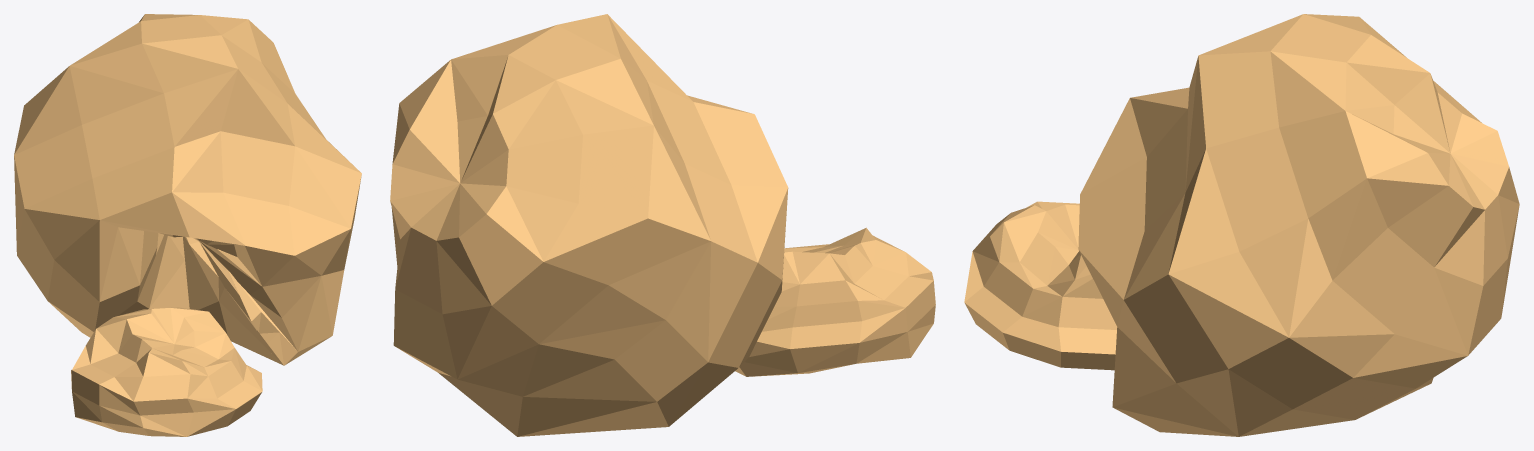
3 views of the same model, side by side, from view 1: azimuth 30°, elevation 25°; view 2: azimuth 150°, elevation 25°; view 3: azimuth 270°, elevation 25° (orthographic). The views are drawn at different scales.
Visible parts, largest first — view 1: group_1089375564; view 2: group_1089375564; view 3: group_1089375564.
Boxes of the visible parts, <box> form: group_1089375564: <box>14,14,361,436</box>; group_1089375564: <box>390,14,935,436</box>; group_1089375564: <box>964,14,1519,436</box>.
Size of the model in its own units: 434 by 350 by 483.
